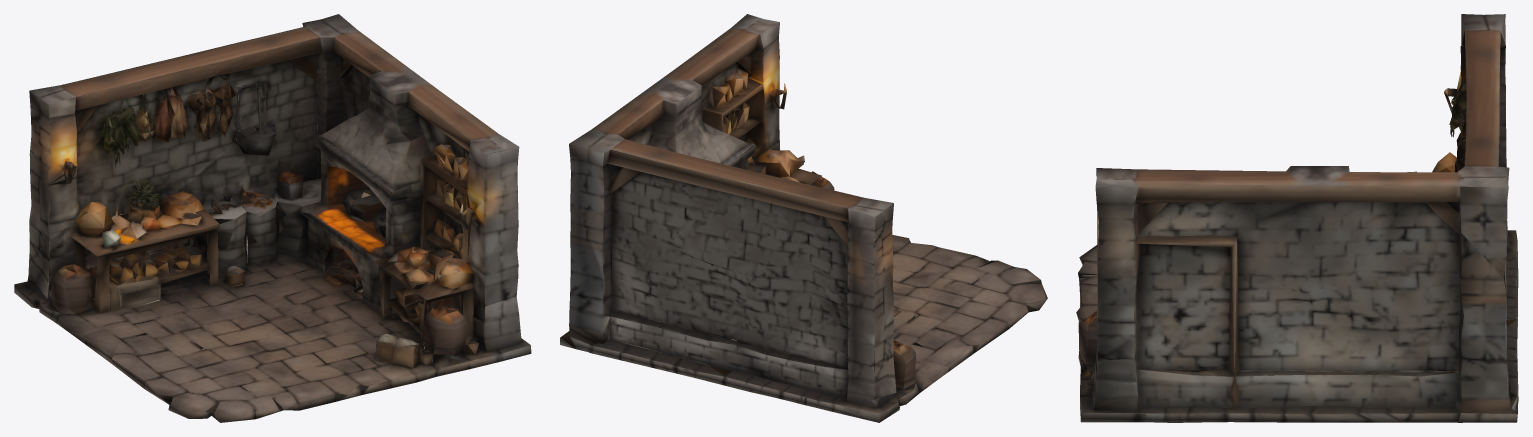
The model's file is World4e02418df0.glb.
3 views of the same model, side by side, from view 1: azimuth 30°, elevation 25°; view 2: azimuth 150°, elevation 25°; view 3: azimuth 270°, elevation 25° (orthographic). The views are drawn at different scales.
Parts seen in each view (by area): view 1: World4e02418df0; view 2: World4e02418df0; view 3: World4e02418df0.
Boxes of the visible parts, x1,y1,x2,y2 form: World4e02418df0: (14, 14, 531, 422); World4e02418df0: (560, 14, 1047, 422); World4e02418df0: (1076, 14, 1518, 422).
Size of the model in its own units: 3.57 by 2.09 by 3.6.
1 material, 1 textured.
